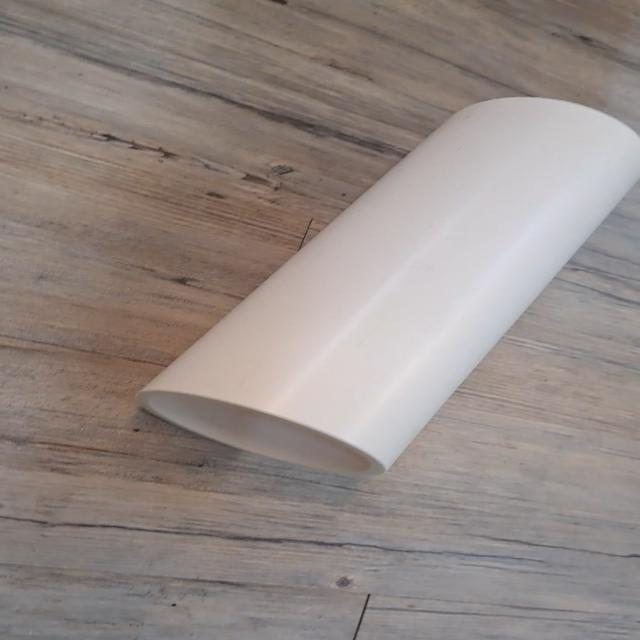CORAL: (116, 85, 640, 477)
